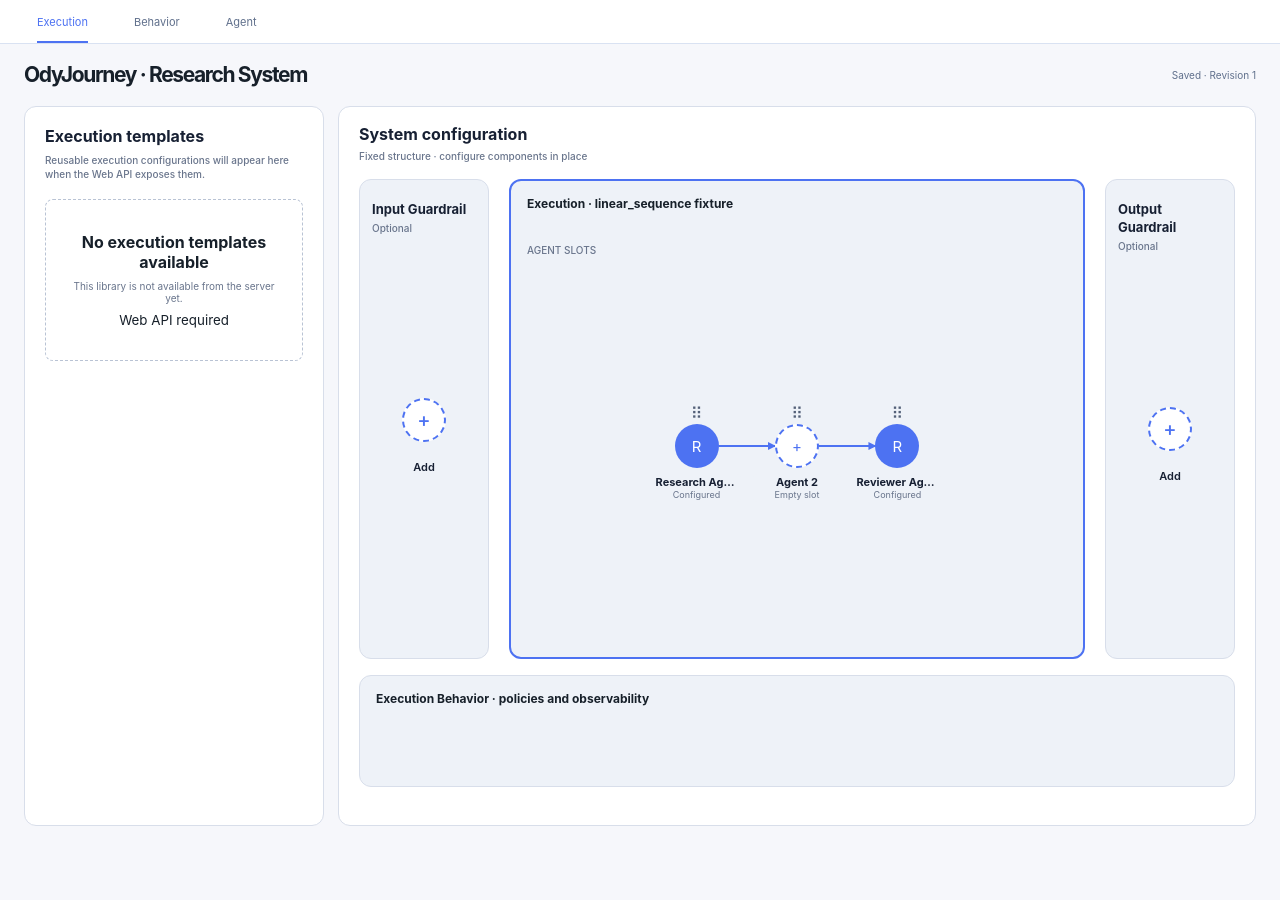
JourneyEditorView integration › opens Save as template from the configured Slot menu instead of a persistent footer form
Right-click the button with class "agent-slot__select" showing "R Research Agent Configured".
right_click(696, 446)  # box [652,402,740,490]
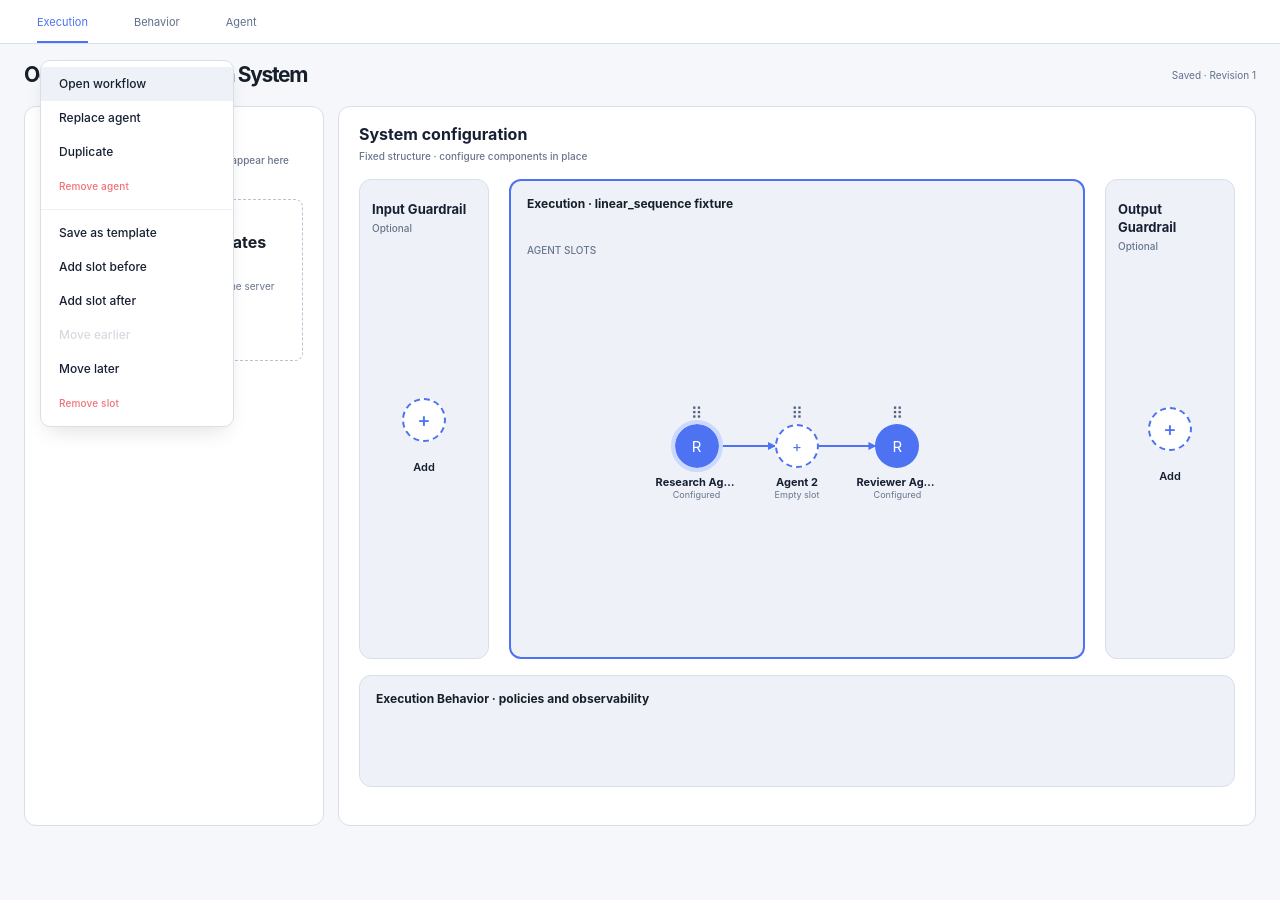
Click the menu item "Save as template".
click(137, 233)  # box [41,216,233,250]
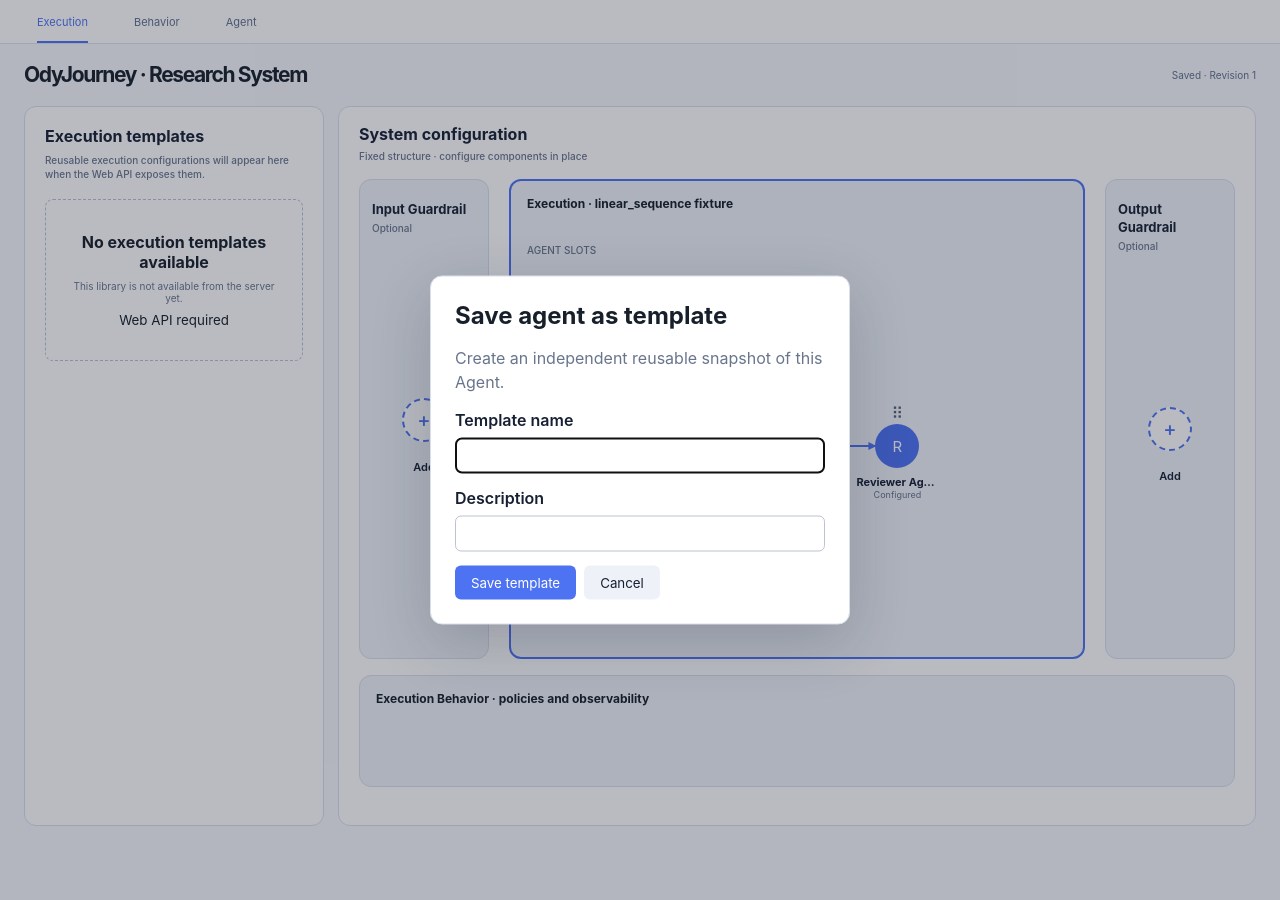
Check: the dialog shows "Save agent as template", box [455,300,727,330]
